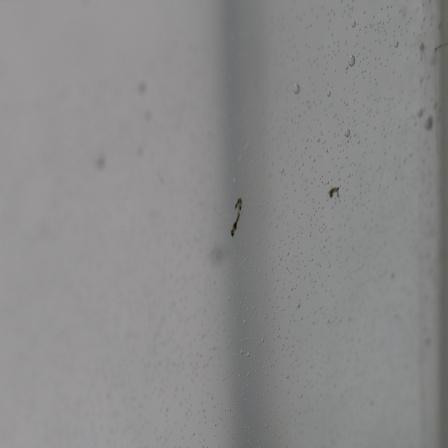Jentik-Nyamuk: (227, 194, 247, 242), (326, 181, 344, 204)
